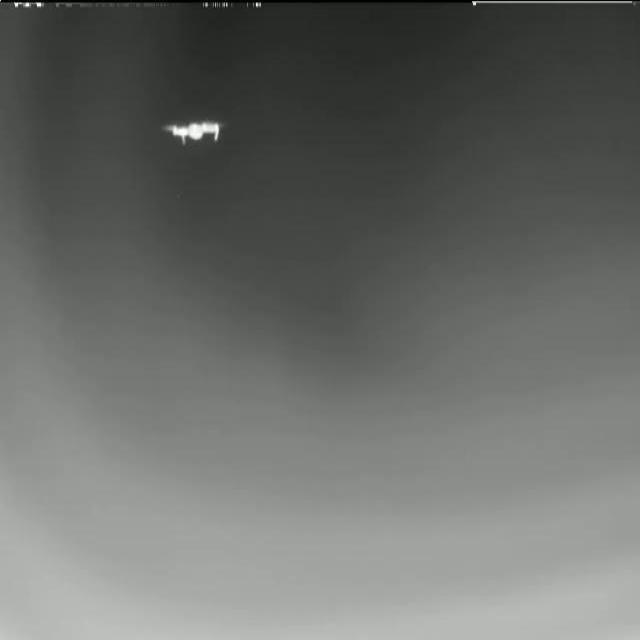DRONE: (161, 113, 221, 144)
